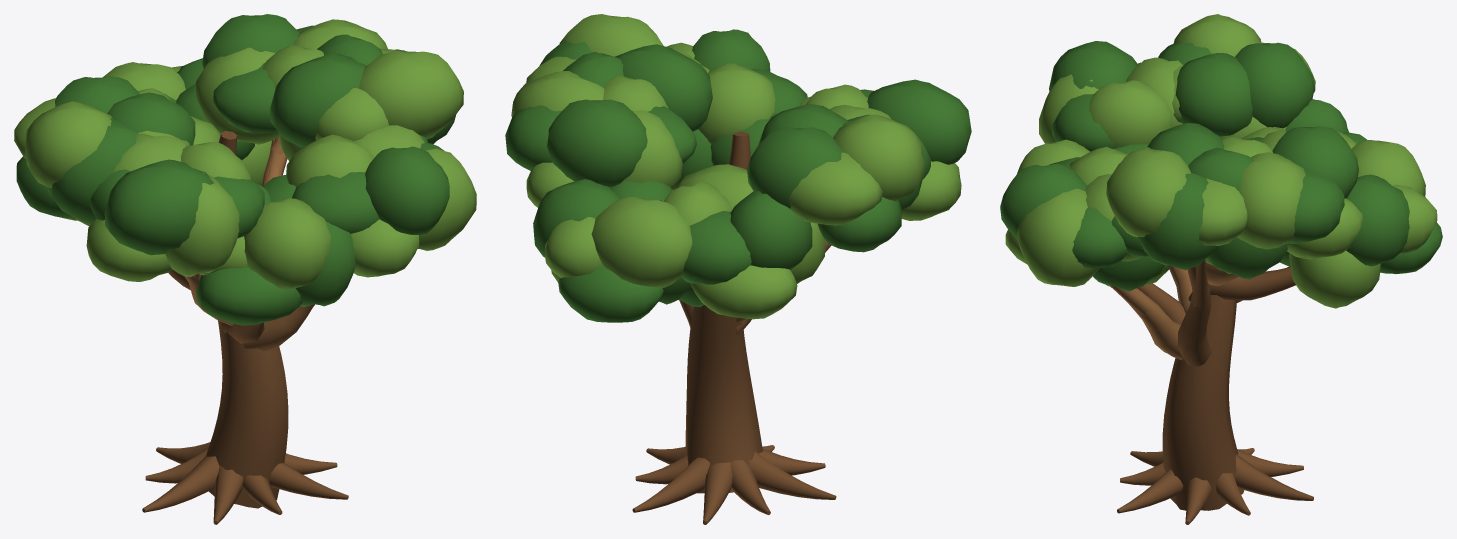
The model's file is gnarled-tree.glb.
3 views of the same model, side by side, from view 1: azimuth 30°, elevation 25°; view 2: azimuth 150°, elevation 25°; view 3: azimuth 270°, elevation 25° (orthographic). The views are drawn at different scales.
Parts seen in each view (by area): view 1: Gnarled tree; view 2: Gnarled tree; view 3: Gnarled tree.
Part boxes in pixels (left/top/right/bottom): Gnarled tree: left=14, top=14, right=476, bottom=524; Gnarled tree: left=505, top=14, right=971, bottom=524; Gnarled tree: left=1000, top=14, right=1442, bottom=524.
Bounding box in the file's own units: 5.16 × 5.28 × 5.19.
